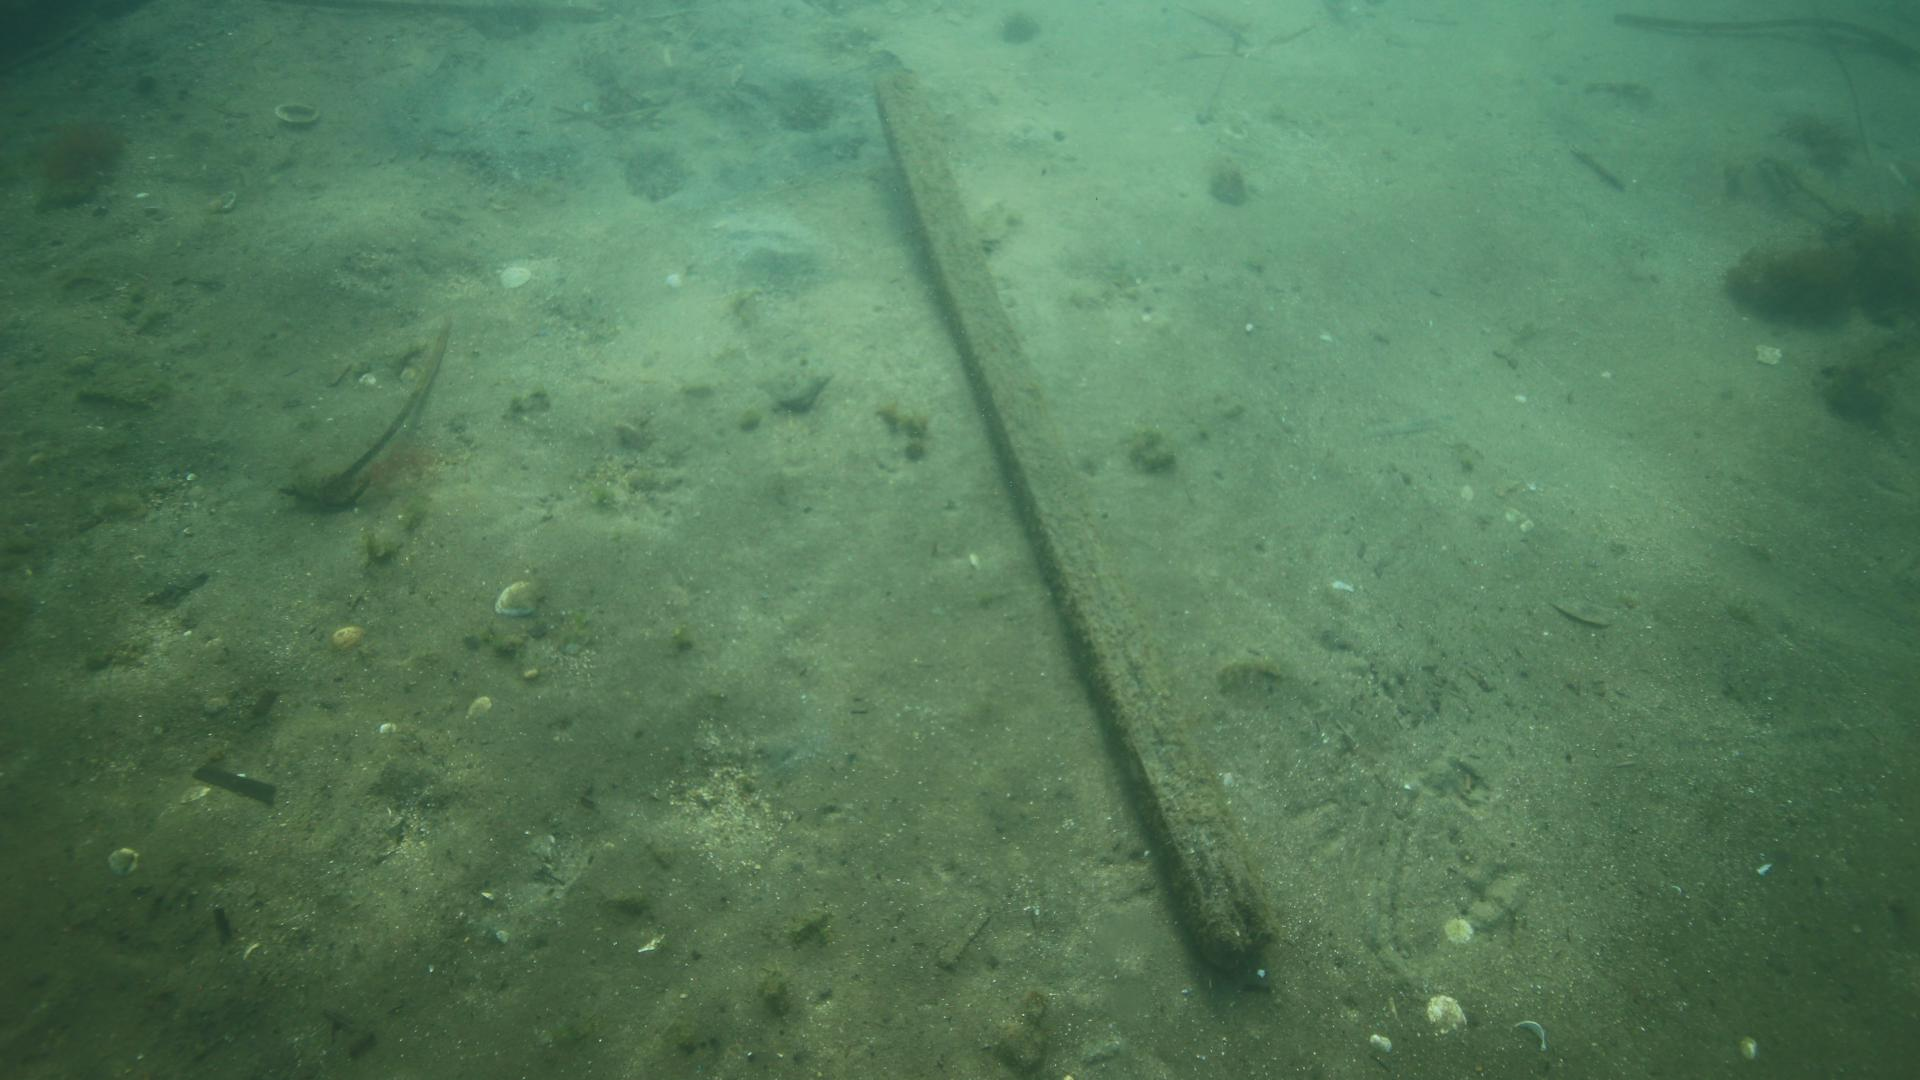wood: (873, 66, 1276, 978)
